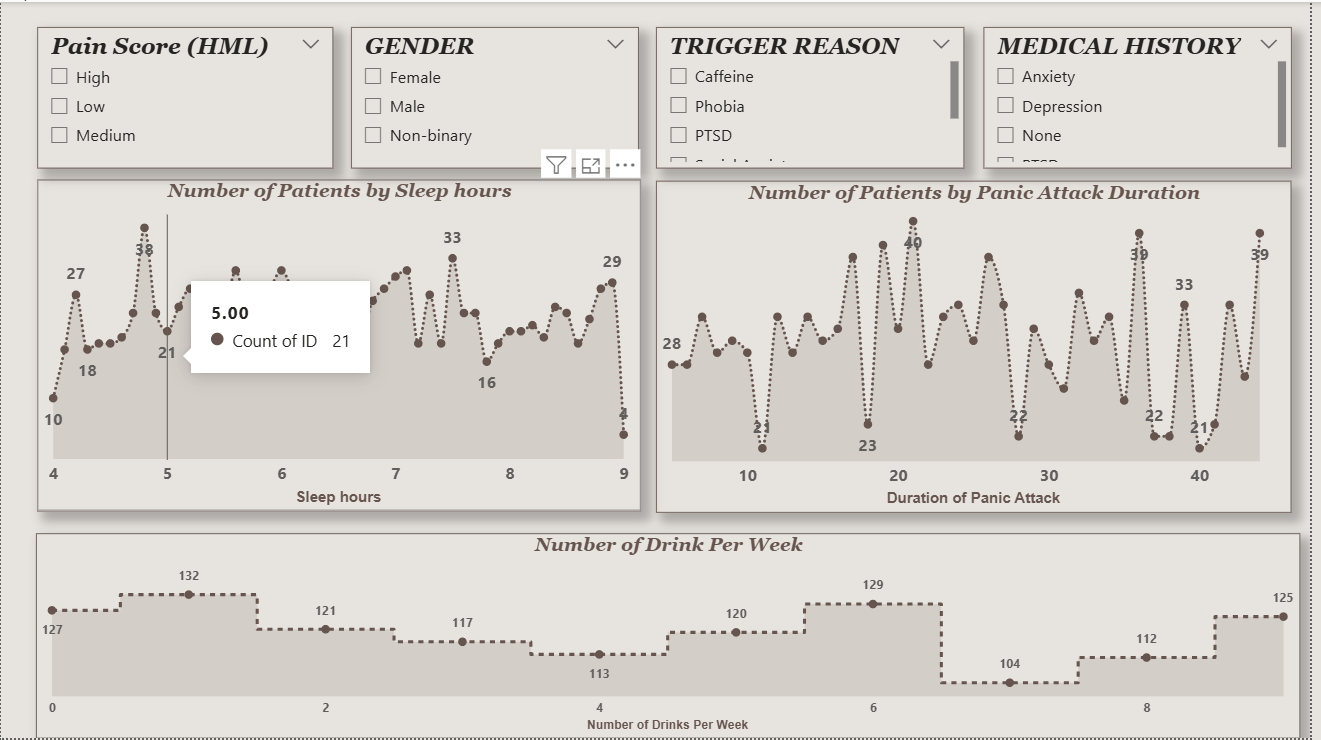

The page's visual inventory and layout, read from the dashboard file:
{"tool":"powerbi","page":{"name":"Other Requirement","canvas":[1280,720],"ordinal":2},"visuals":[{"type":"slicer","fields":{"Values":["PANIC_ATTACK_DATA.Pain Score (HML)"]},"box":[36.1,24.5,290,138.5],"z":0},{"type":"slicer","fields":{"Values":["PANIC_ATTACK_DATA.GENDER"]},"box":[341.9,24.5,281.3,138.5],"z":1000},{"type":"slicer","fields":{"Values":["PANIC_ATTACK_DATA.TRIGGER_REASON"]},"box":[640.6,24.5,301.5,138.5],"z":2000},{"type":"slicer","fields":{"Values":["PANIC_ATTACK_DATA.MEDICAL_HISTORY"]},"box":[960.9,24.5,301.5,138.5],"z":3000},{"type":"areaChart","title":"Number of Drink Per Week","fields":{"Category":["PANIC_ATTACK_DATA.ALCOHOL_CONSUMPTION"],"Y":["CountNonNull(PANIC_ATTACK_DATA.ID)"]},"box":[34.6,519.4,1236.7,200.5],"z":4000},{"type":"areaChart","title":"Number of Patients by Sleep hours","fields":{"Y":["CountNonNull(PANIC_ATTACK_DATA.ID)"],"Category":["PANIC_ATTACK_DATA.SLEEP_HOURS"]},"box":[36.1,173.1,590.1,324.6],"z":5000},{"type":"areaChart","title":"Number of Patients by Panic Attack Duration ","fields":{"Y":["CountNonNull(PANIC_ATTACK_DATA.ID)"],"Category":["PANIC_ATTACK_DATA.DURATION_MINUTES"]},"box":[640.6,174.6,621.8,324.6],"z":6001}]}

Visuals, with their boxes in screenshot pixels (x1, y1, x2, y2), scaled from the page's 1280x720 canvas onto the 1321x740 screenshot:
slicer - PANIC_ATTACK_DATA.Pain Score (HML): 37/25/337/168
slicer - PANIC_ATTACK_DATA.GENDER: 353/25/643/168
slicer - PANIC_ATTACK_DATA.TRIGGER_REASON: 661/25/972/168
slicer - PANIC_ATTACK_DATA.MEDICAL_HISTORY: 992/25/1303/168
"Number of Drink Per Week" areaChart: 36/534/1312/739
"Number of Patients by Sleep hours" areaChart: 37/178/646/512
"Number of Patients by Panic Attack Duration " areaChart: 661/179/1303/513
